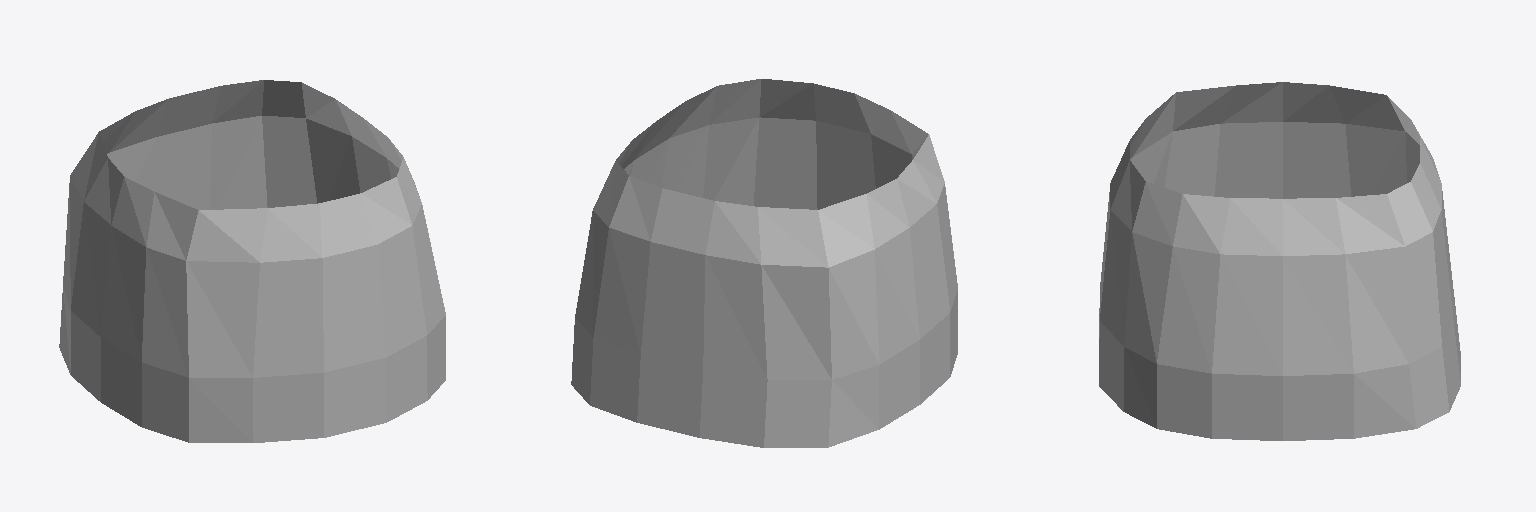
File: leftArm2Cover.obj
3 renders of one model, left to right at view 1: azimuth 30°, elevation 25°; view 2: azimuth 150°, elevation 25°; view 3: azimuth 270°, elevation 25°, orthographic.
Visible parts, largest first — view 1: unnamed_object1; view 2: unnamed_object1; view 3: unnamed_object1.
Part boxes in pixels (x1,y1,x2,y2): unnamed_object1: (59,80,445,442); unnamed_object1: (571,79,957,447); unnamed_object1: (1099,82,1460,440).
Bounding box in the file's own units: 9.71 × 6.68 × 9.92.